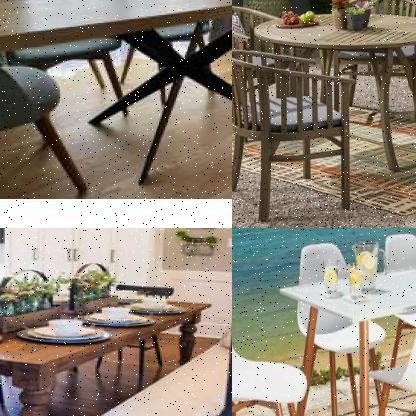table: (0, 0, 231, 192), (0, 284, 218, 415), (252, 10, 415, 174), (270, 250, 415, 415)
